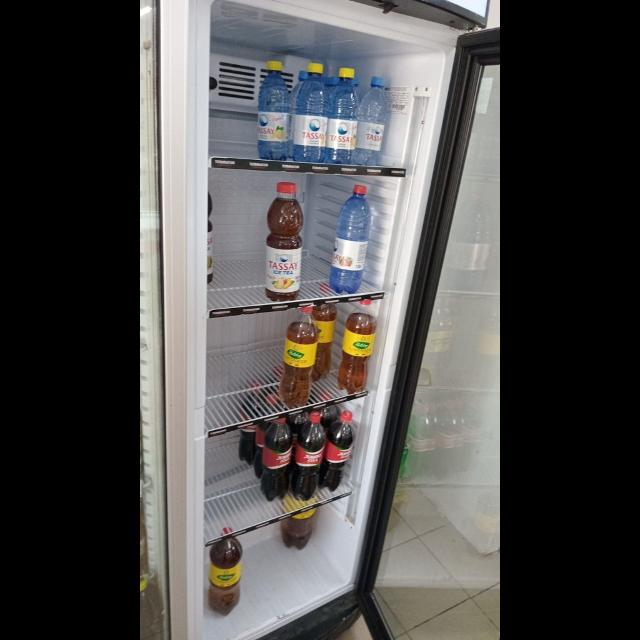Cooling-Display: (159, 1, 489, 640)
